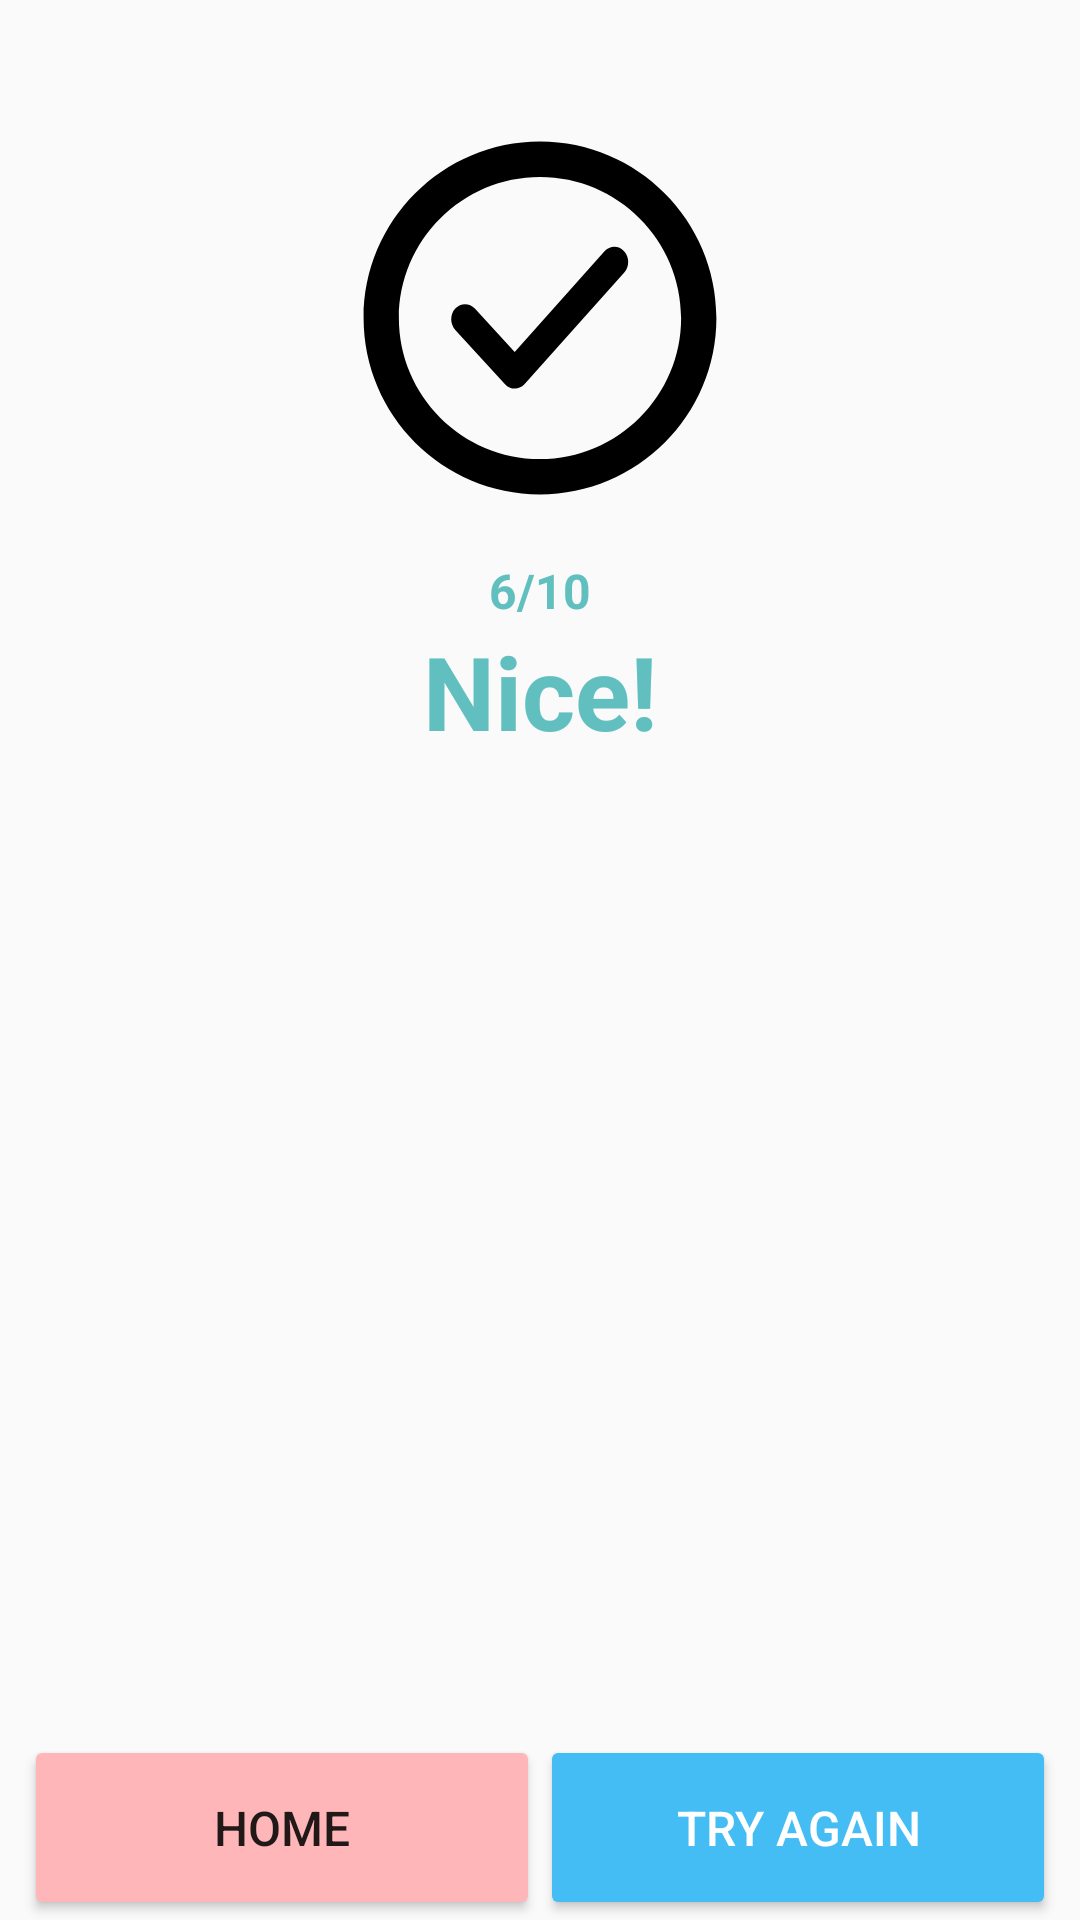

Icons on this 1080×1920 Android screen, each with its box as [x1,y1,x2,y2]:
success: [363,141,717,495]
